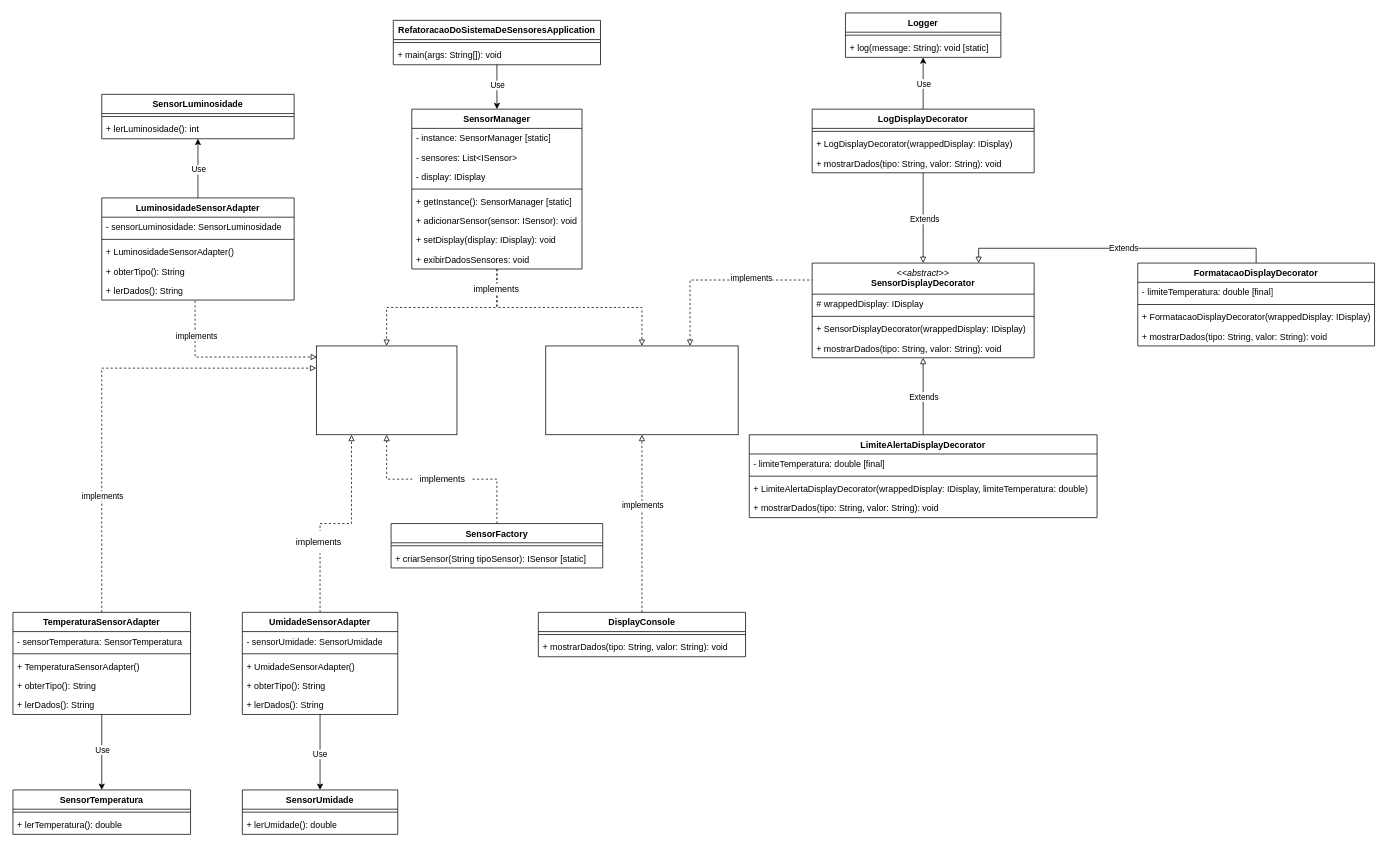
Image size: 1388x850. Some labels were removed from this diagram. The shapes that lost their labels are listed below. From the top down, each one's centre as x and y in pixels, then its label:
[386,390]: <<Interface>> ISensor + obterTipo(): String + lerDados(): String
[641,390]: <<Interface>> IDisplay + mostrarDados( tipo: String, valor: String): void
